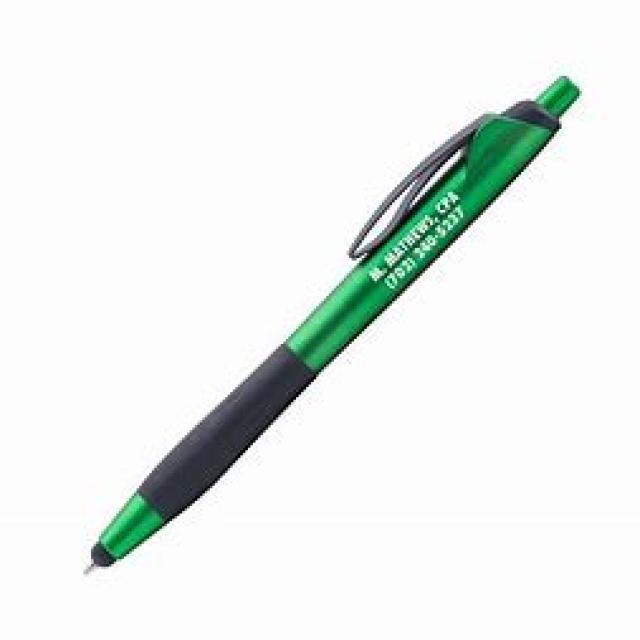pen: (82, 72, 580, 578)
